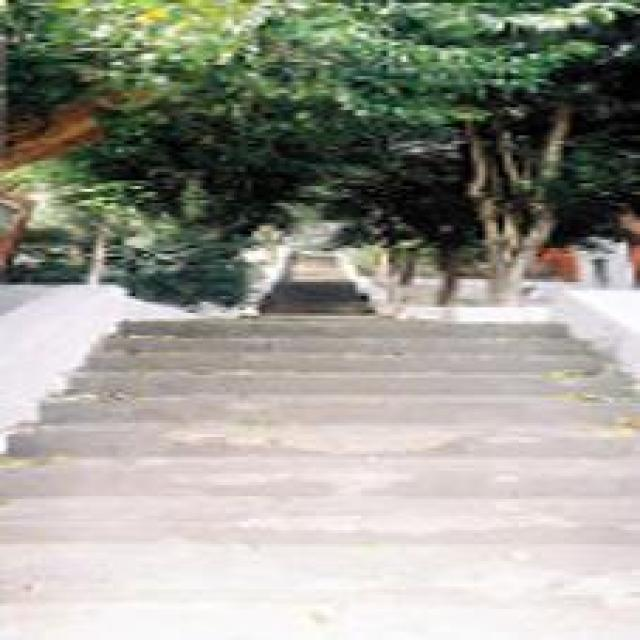stair: (1, 251, 639, 638)
